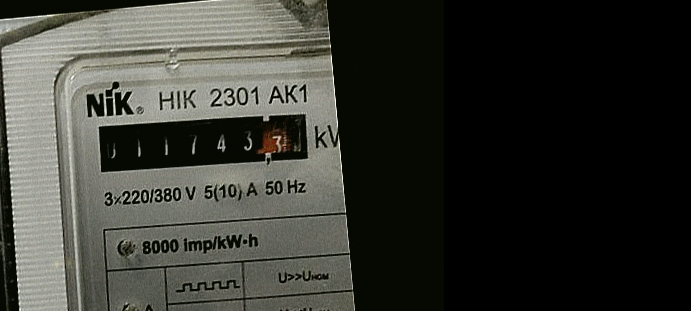0: (101, 133, 118, 161)
1: (128, 130, 145, 159), (156, 129, 171, 158)
3: (237, 125, 253, 153), (267, 132, 284, 155)
4: (211, 128, 227, 155)
7: (183, 129, 199, 155)
screen: (87, 100, 318, 185)
